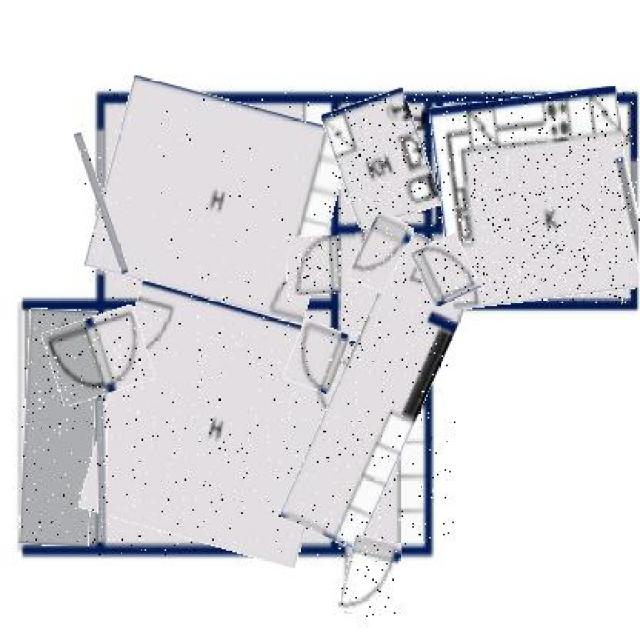door: (46, 311, 151, 400), (342, 537, 398, 618), (355, 215, 408, 292), (288, 322, 346, 391), (416, 237, 476, 303), (288, 237, 340, 295)
window: (85, 131, 117, 275), (620, 157, 640, 278), (97, 400, 108, 542)
zone: (92, 292, 345, 556), (94, 87, 341, 310), (310, 232, 456, 550), (436, 90, 636, 304), (21, 308, 97, 546), (329, 94, 434, 226)
